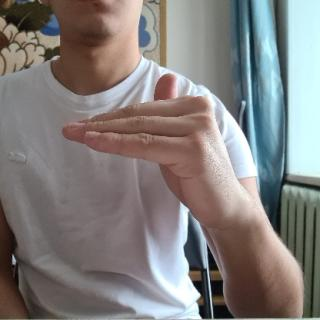KHAA: (58, 70, 250, 233)
